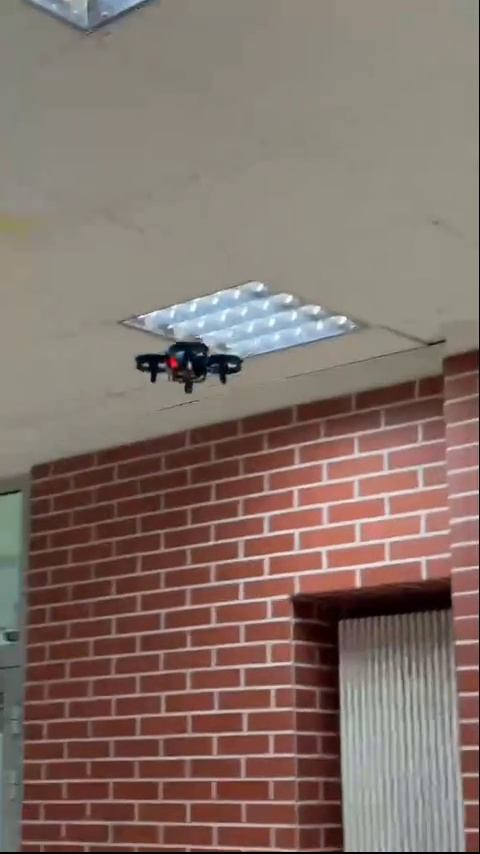drone: (138, 339, 238, 397)
